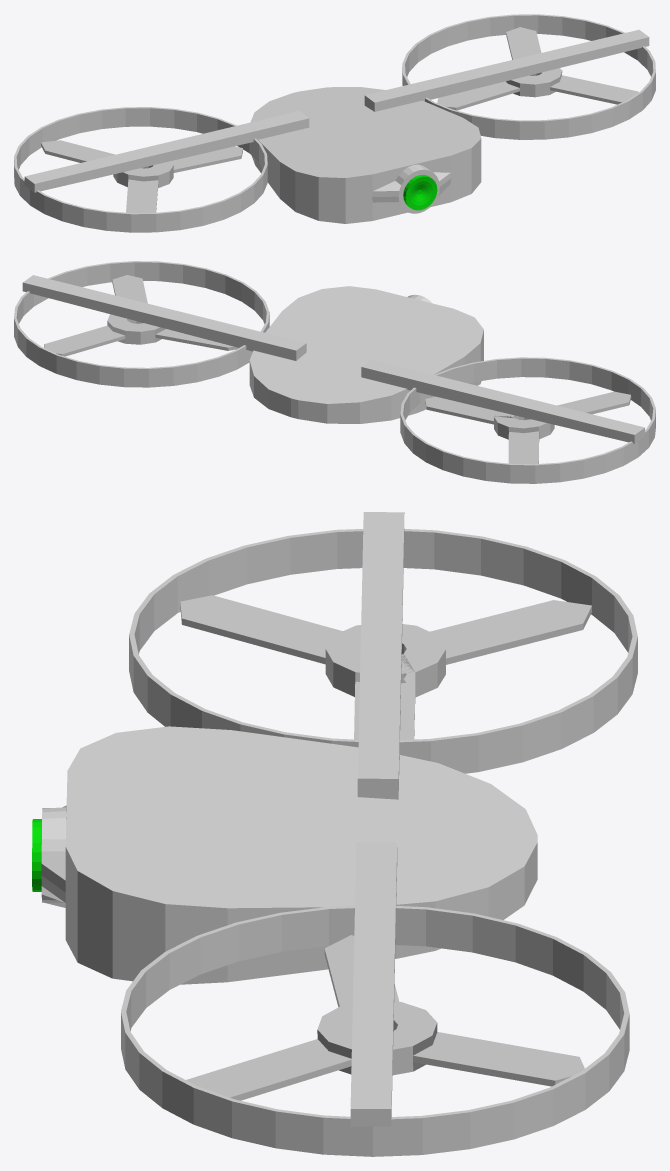
File: DRONE.fbx
The picture shows the model from 3 angles, top to bottom: view 1: azimuth 30°, elevation 25°; view 2: azimuth 150°, elevation 25°; view 3: azimuth 270°, elevation 25°; orthographic projection. The views are drawn at different scales.
Visible parts, largest first — view 1: Cube.006, Cube.005, Cube.007; view 2: Cube.006, Cube.007, Cube.005; view 3: Cube.006, Cube.007, Cube.005.
Boxes of the visible parts, box(x1,y1,x2,y2) form: Cube.006: box(14, 14, 655, 232); Cube.005: box(437, 27, 638, 110); Cube.007: box(41, 140, 242, 212); Cube.006: box(14, 261, 655, 483); Cube.007: box(425, 391, 631, 464); Cube.005: box(44, 275, 238, 356); Cube.006: box(32, 512, 637, 1156); Cube.007: box(180, 595, 591, 739); Cube.005: box(186, 935, 584, 1100).
Bounding box in the file's own units: 262 × 19.55 × 113.
